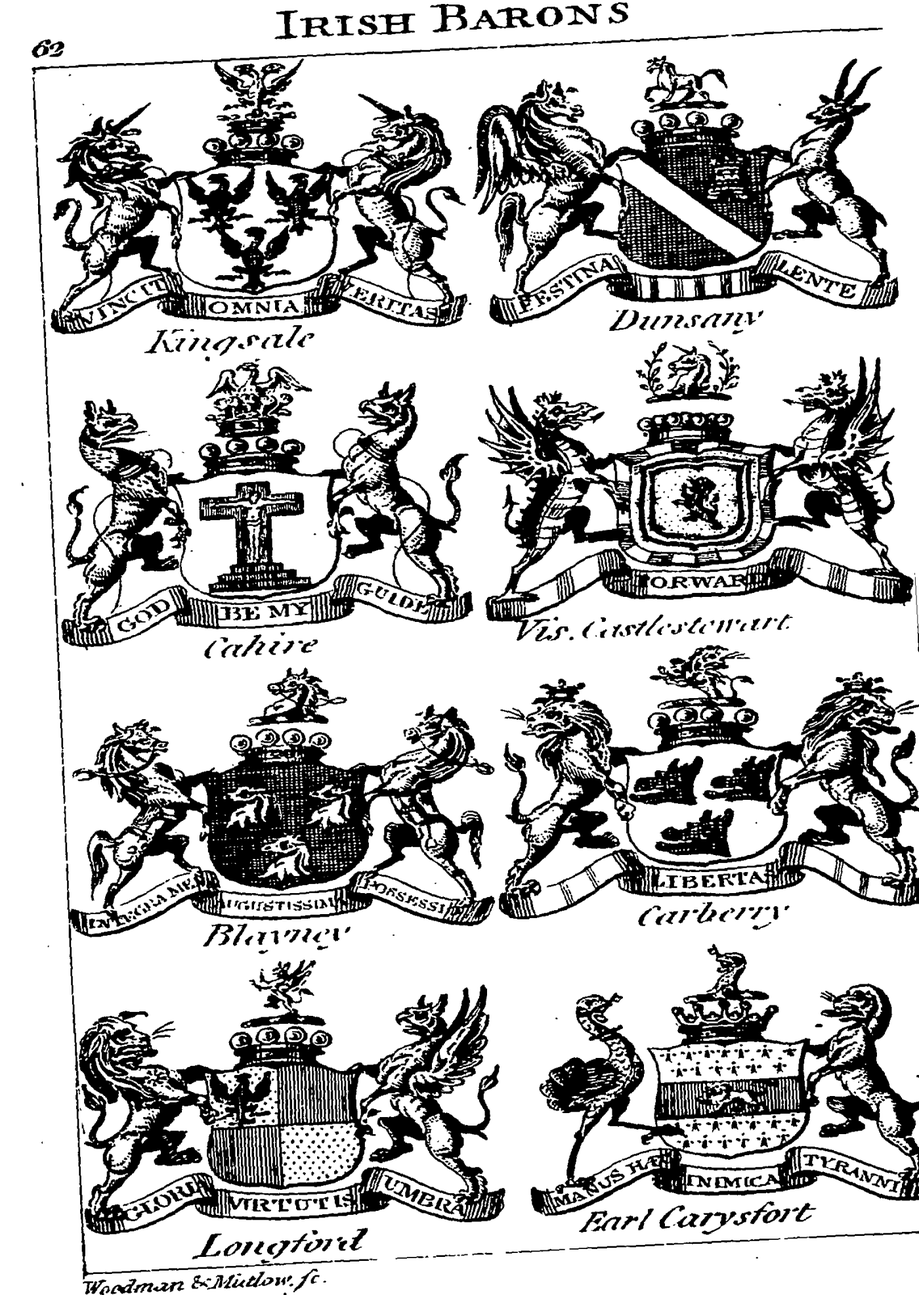coat_of_arms: (77, 954, 507, 1267), (471, 344, 918, 644), (482, 645, 919, 942), (470, 43, 903, 337), (51, 68, 476, 363), (49, 368, 471, 652), (72, 663, 490, 944), (532, 949, 919, 1235)
